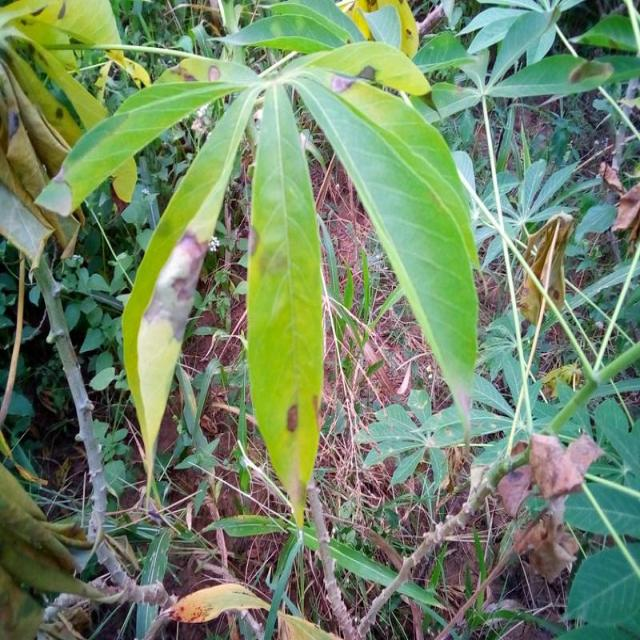cassava leaf: (36, 1, 481, 529), (282, 53, 480, 445), (120, 79, 261, 507), (246, 79, 324, 528)
